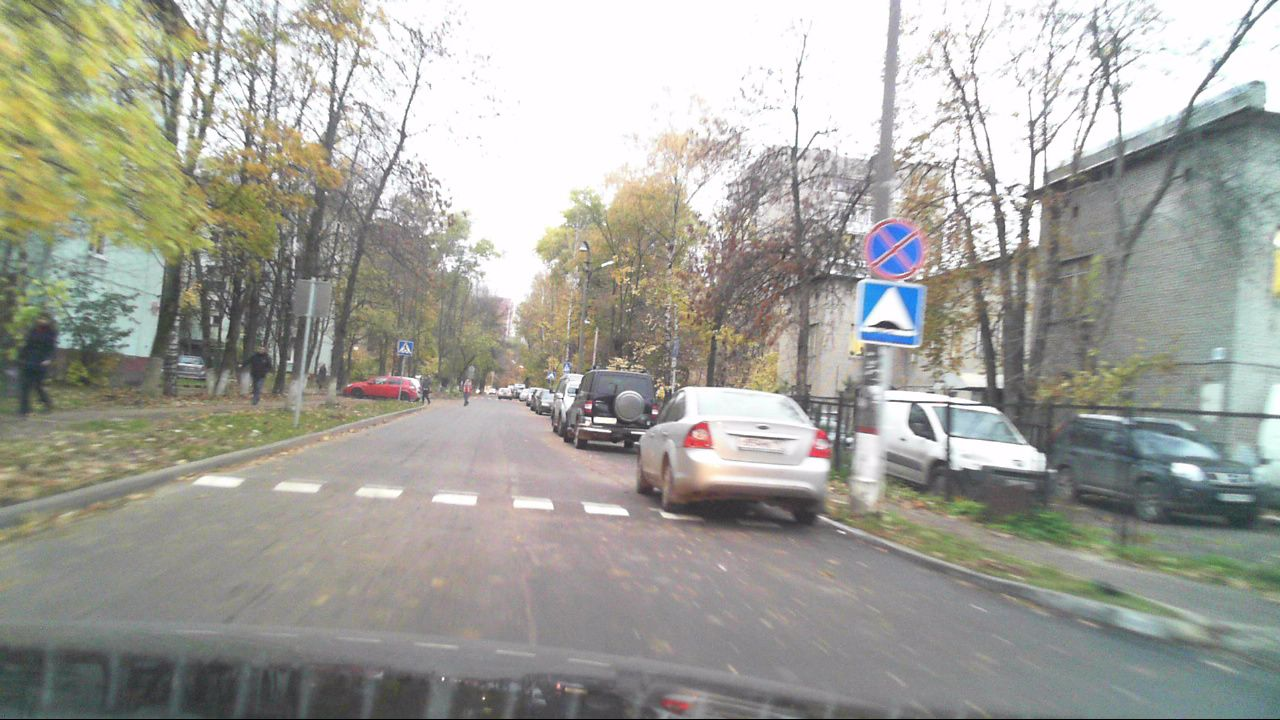No Parking: (864, 219, 922, 280)
